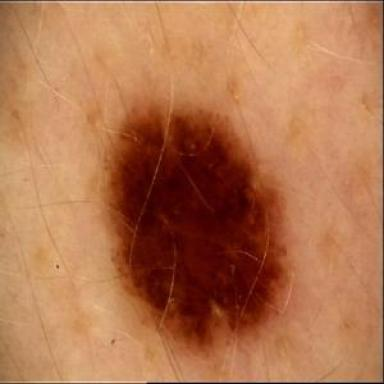Melanoma: (107, 103, 287, 342)
